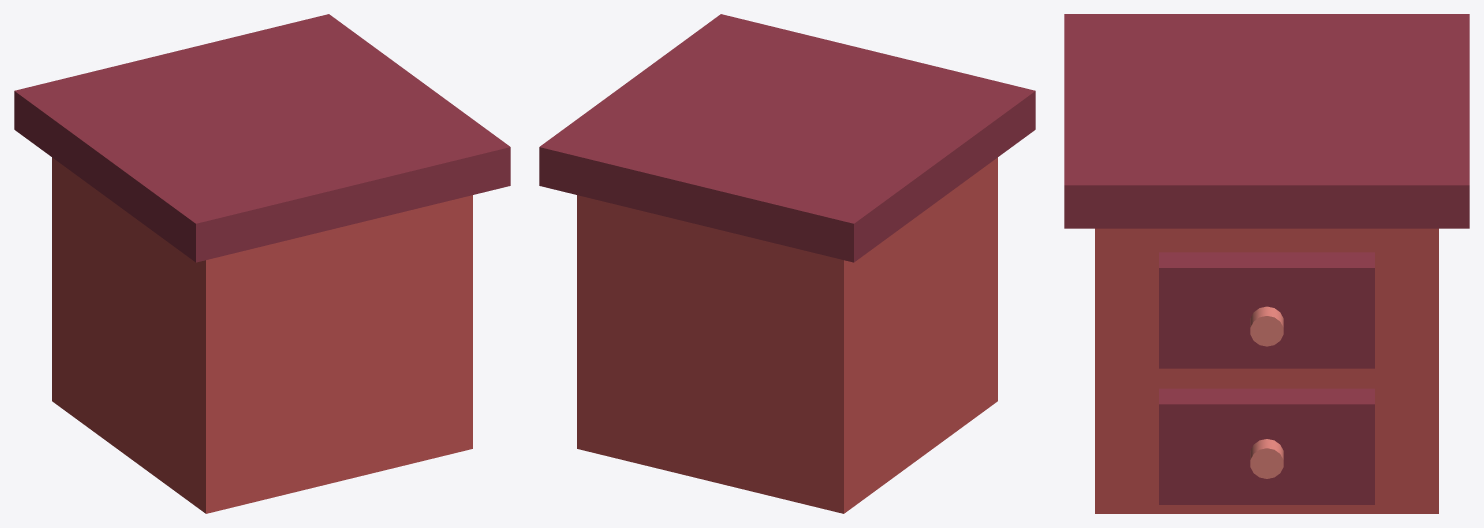
Rendered from buro.obj.
The picture shows the model from 3 angles, left to right: view 1: azimuth 30°, elevation 25°; view 2: azimuth 150°, elevation 25°; view 3: azimuth 270°, elevation 25°; orthographic projection. The views are drawn at different scales.
Visible parts, largest first — view 1: pCube5; view 2: pCube5; view 3: pCube5.
Part boxes in pixels (left/top/right/bottom): pCube5: left=14, top=14, right=510, bottom=513; pCube5: left=539, top=14, right=1035, bottom=513; pCube5: left=1064, top=14, right=1469, bottom=513.
Size of the model in its own units: 1.26 by 1.1 by 1.18.
Materials: 3 (3 with a texture image).
